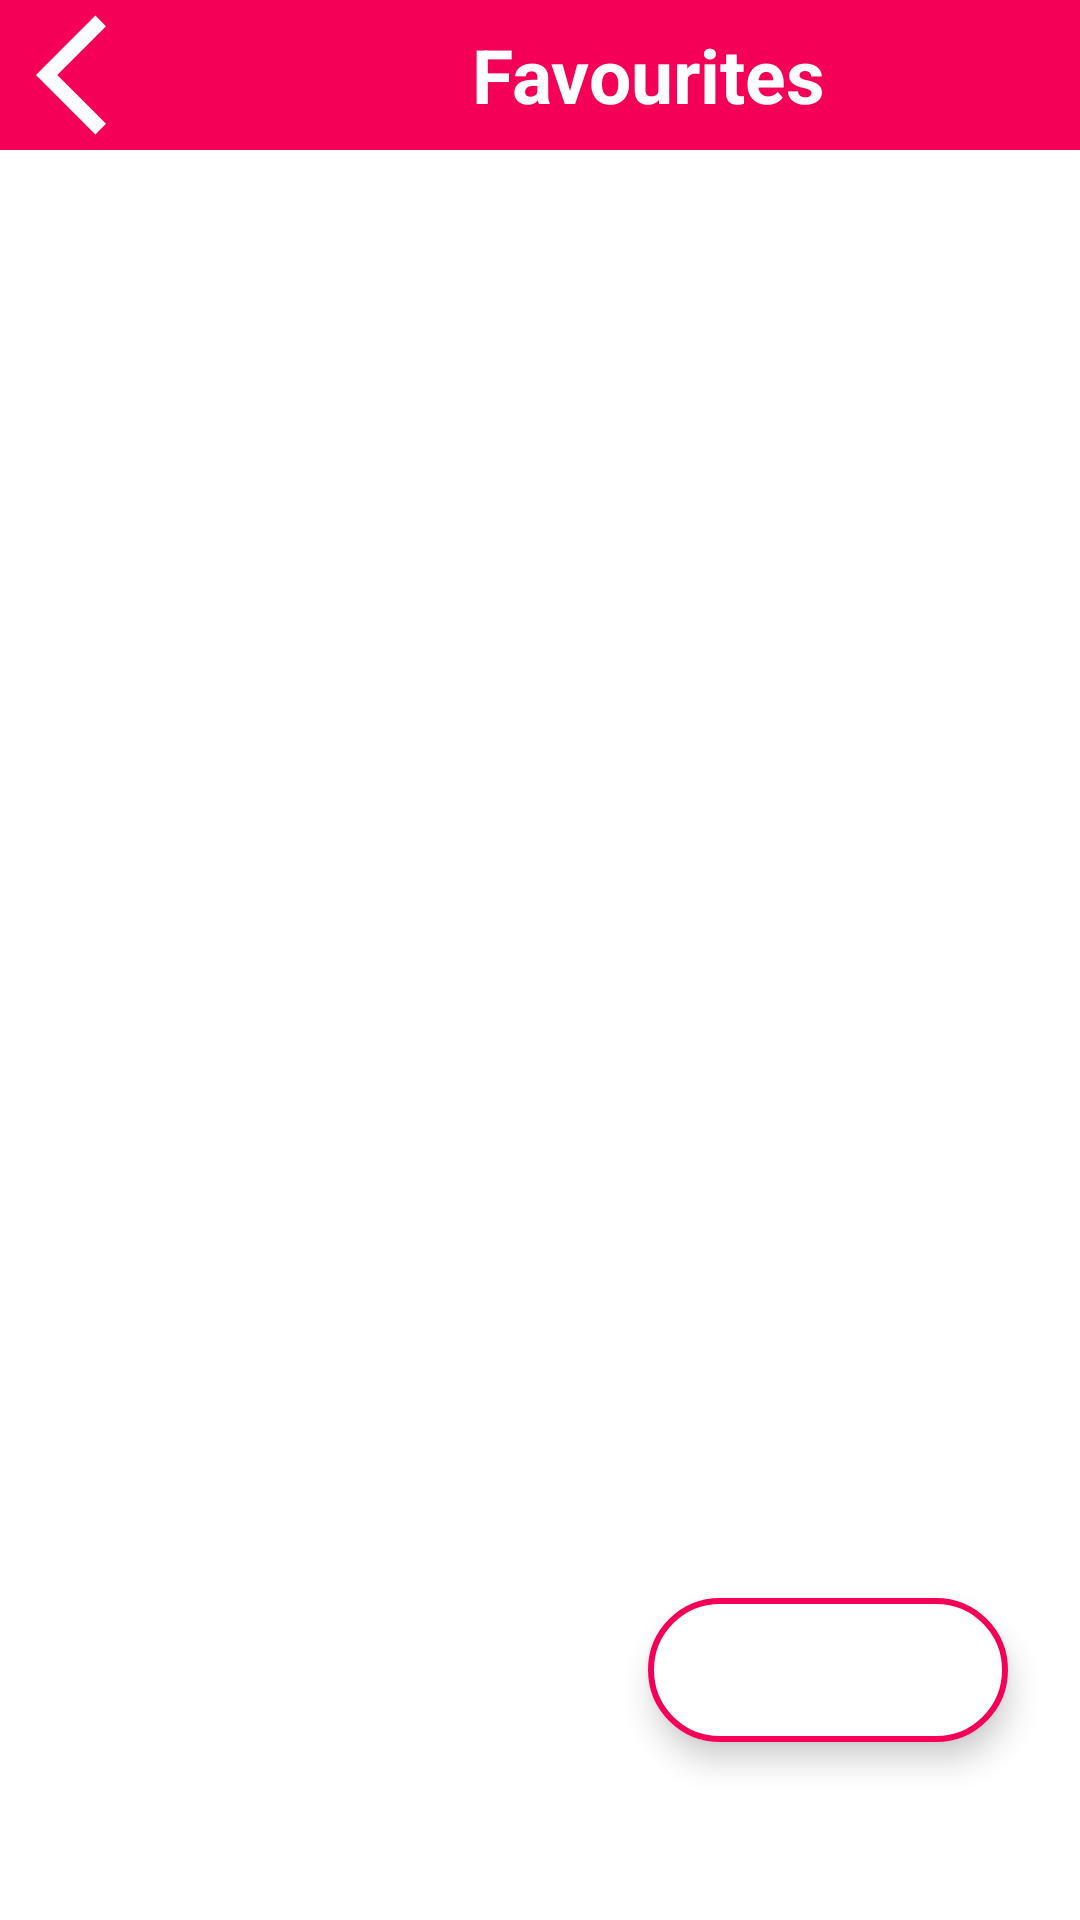

Icon bounding boxes for this 1080px×1920px phone screenshot, format (x1, y1, x2, y2):
back button: (36, 15, 106, 135)
